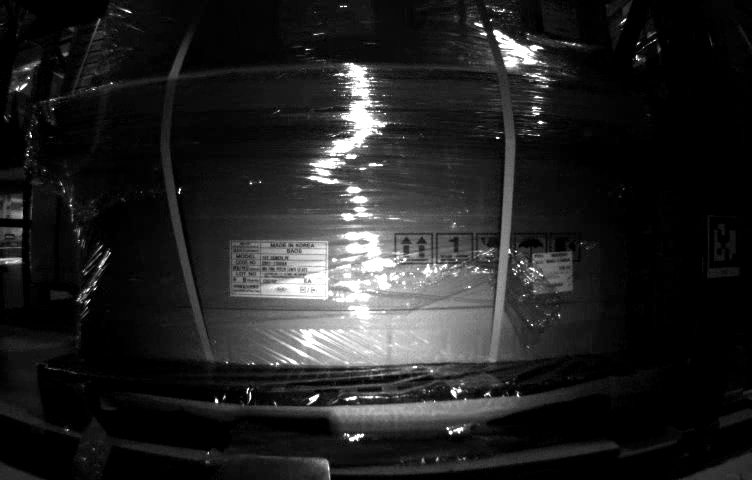True Barcode: (531, 250, 576, 291)
